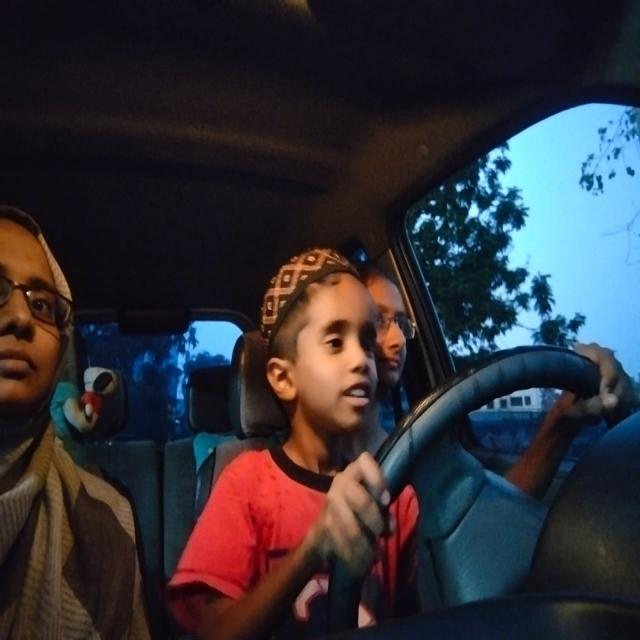child: (254, 254, 385, 434)
person: (1, 202, 74, 416), (368, 271, 421, 376)
